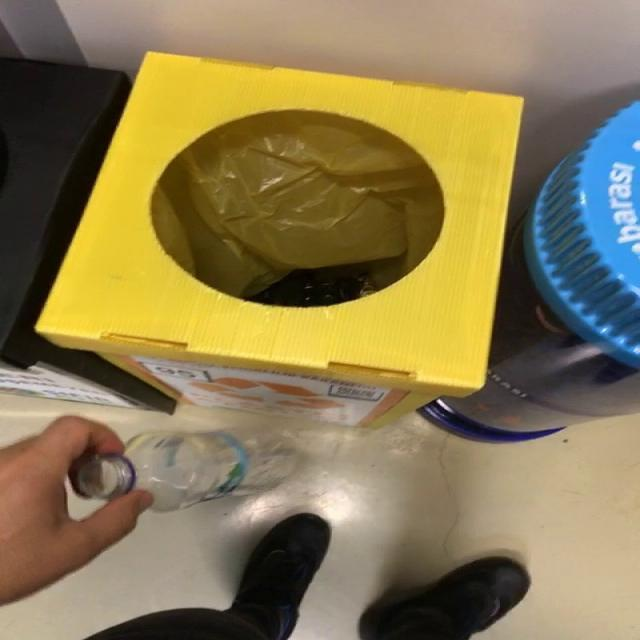Plastic: (68, 432, 296, 512)
